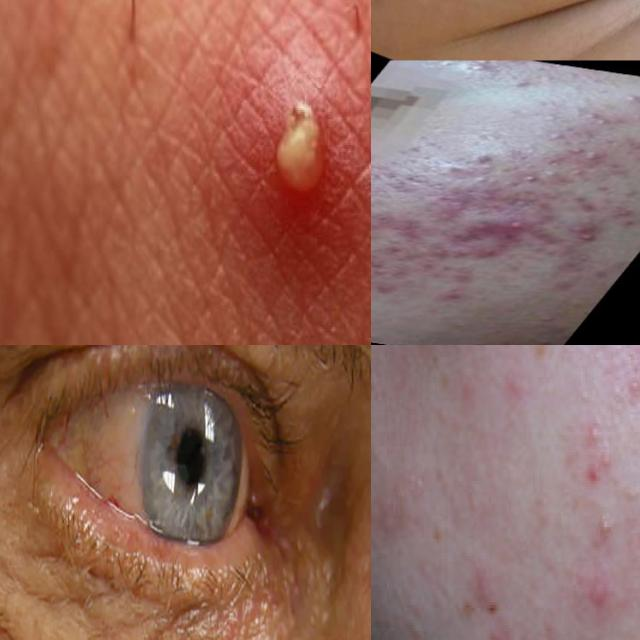comedone: (565, 111, 619, 136), (450, 172, 505, 190), (446, 60, 498, 76), (506, 172, 553, 188), (530, 164, 568, 181), (612, 88, 640, 110), (562, 144, 594, 156), (536, 130, 562, 142)
papule: (454, 206, 558, 248), (371, 207, 442, 239), (541, 218, 616, 248), (441, 236, 513, 264), (371, 233, 421, 258), (421, 286, 475, 307), (371, 272, 413, 299), (371, 173, 391, 200)
